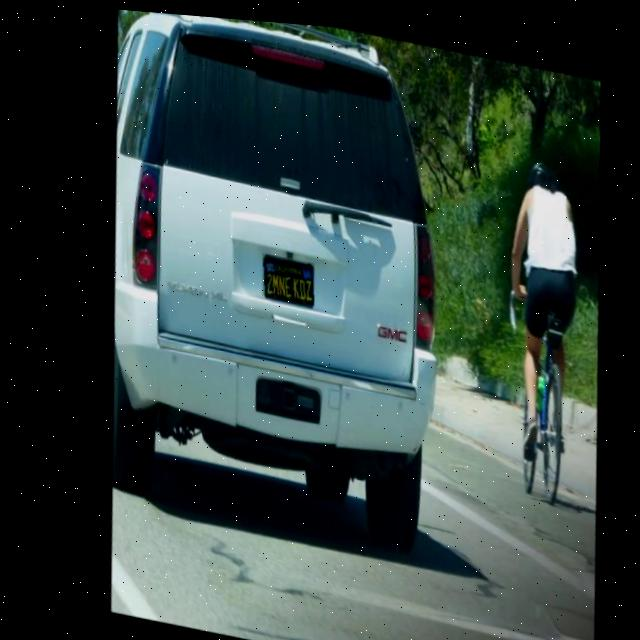LicensePlate: (251, 248, 312, 302)
